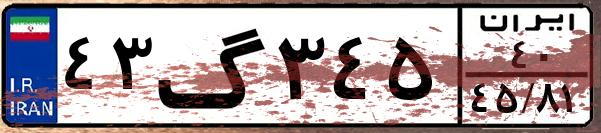0: (537, 27, 568, 80)
1: (560, 70, 590, 125)
3: (270, 28, 330, 110), (110, 28, 156, 98)
4: (330, 28, 385, 110), (57, 26, 110, 100), (508, 27, 537, 80), (470, 70, 495, 125)
5: (385, 28, 445, 110), (495, 70, 520, 125)
8: (535, 70, 560, 125)
گ: (156, 12, 270, 120)
